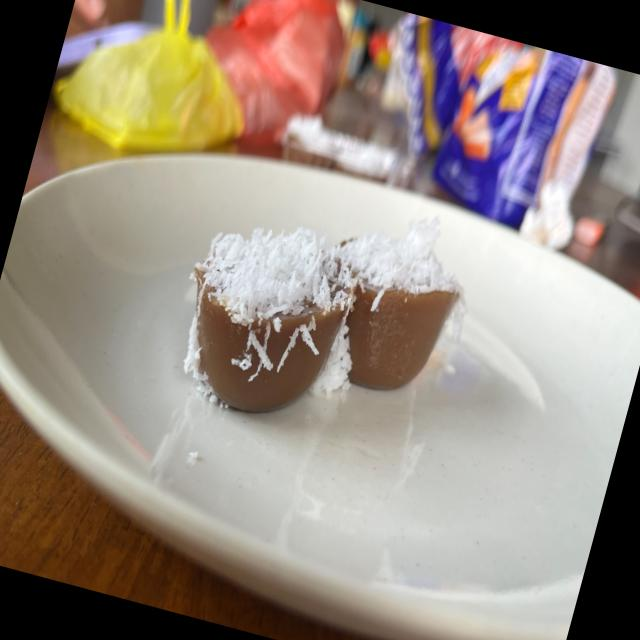Kuih lompang: (184, 227, 357, 412), (339, 217, 465, 390)
